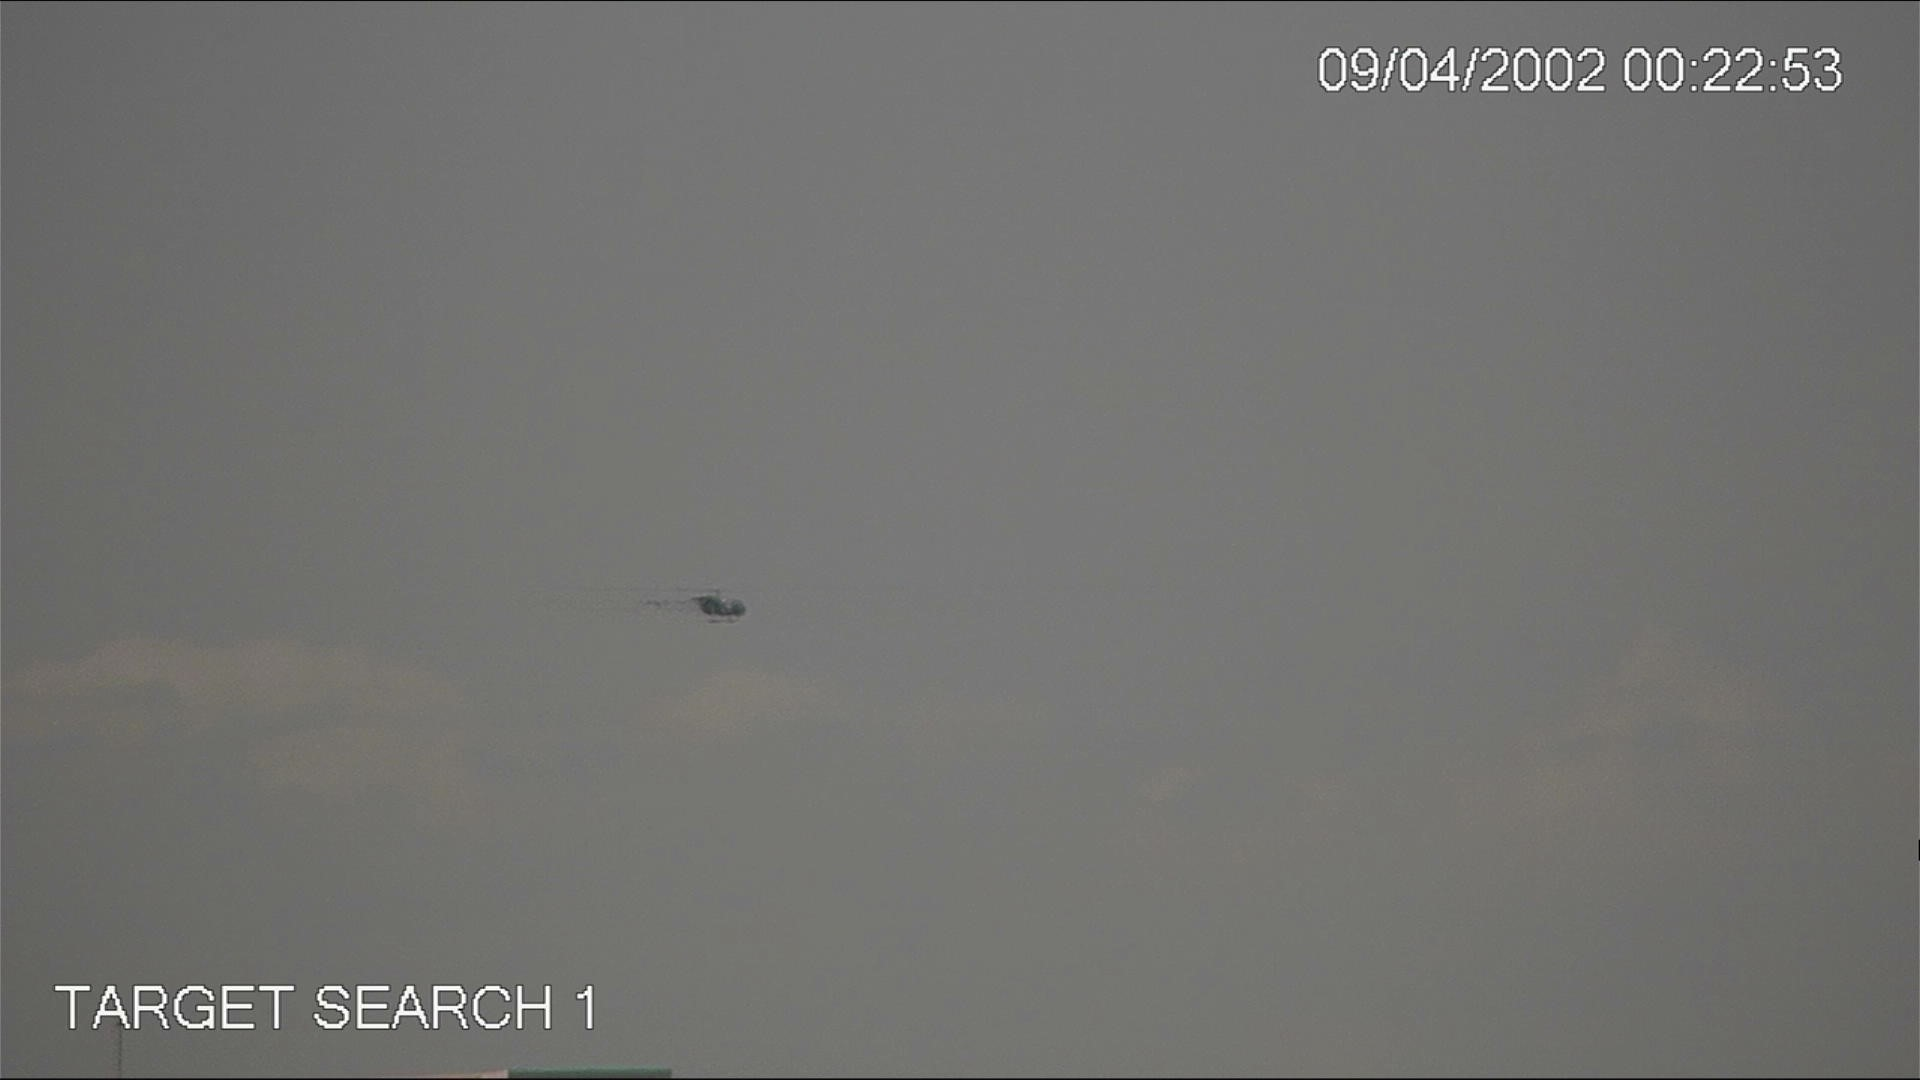SU_30: (641, 578, 752, 632)
